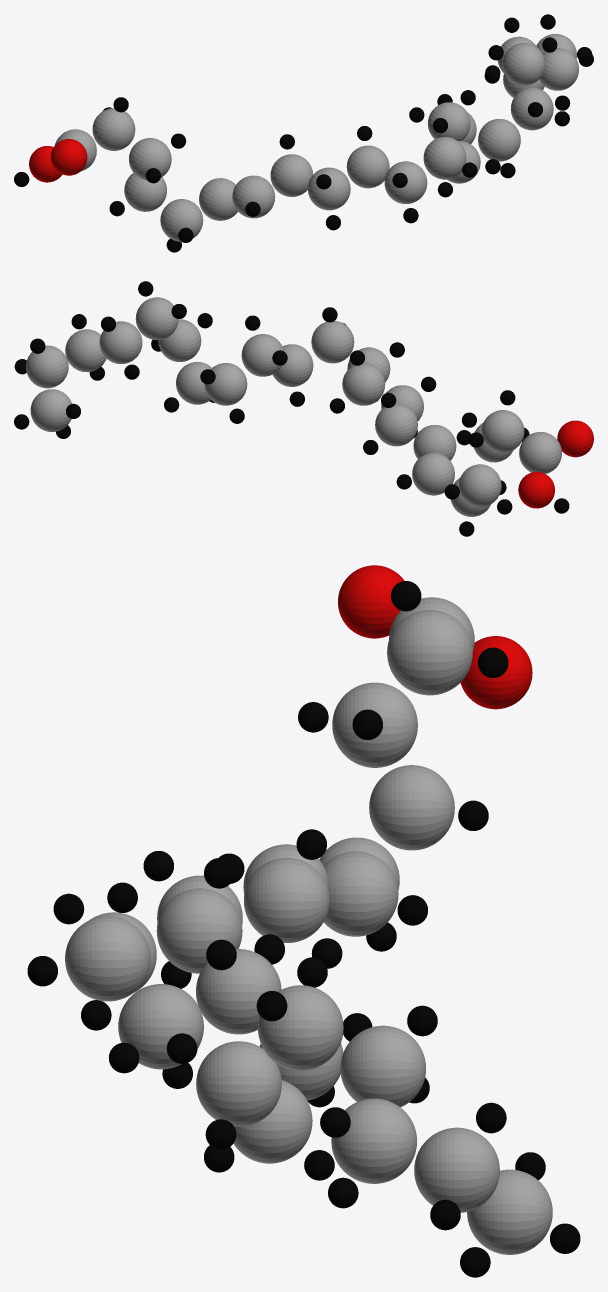
Rendered from Oleic Acid.glb.
3 renders of one model, top to bottom at view 1: azimuth 30°, elevation 25°; view 2: azimuth 150°, elevation 25°; view 3: azimuth 270°, elevation 25°, orthographic. The views are drawn at different scales.
Visible parts, largest first — view 1: world; view 2: world; view 3: world.
Part boxes in pixels (x1,y1,x2,y2): world: [14, 14, 593, 252]; world: [14, 281, 593, 536]; world: [27, 565, 580, 1277].
Size of the model in its own units: 21.3 by 5.8 by 9.03.
